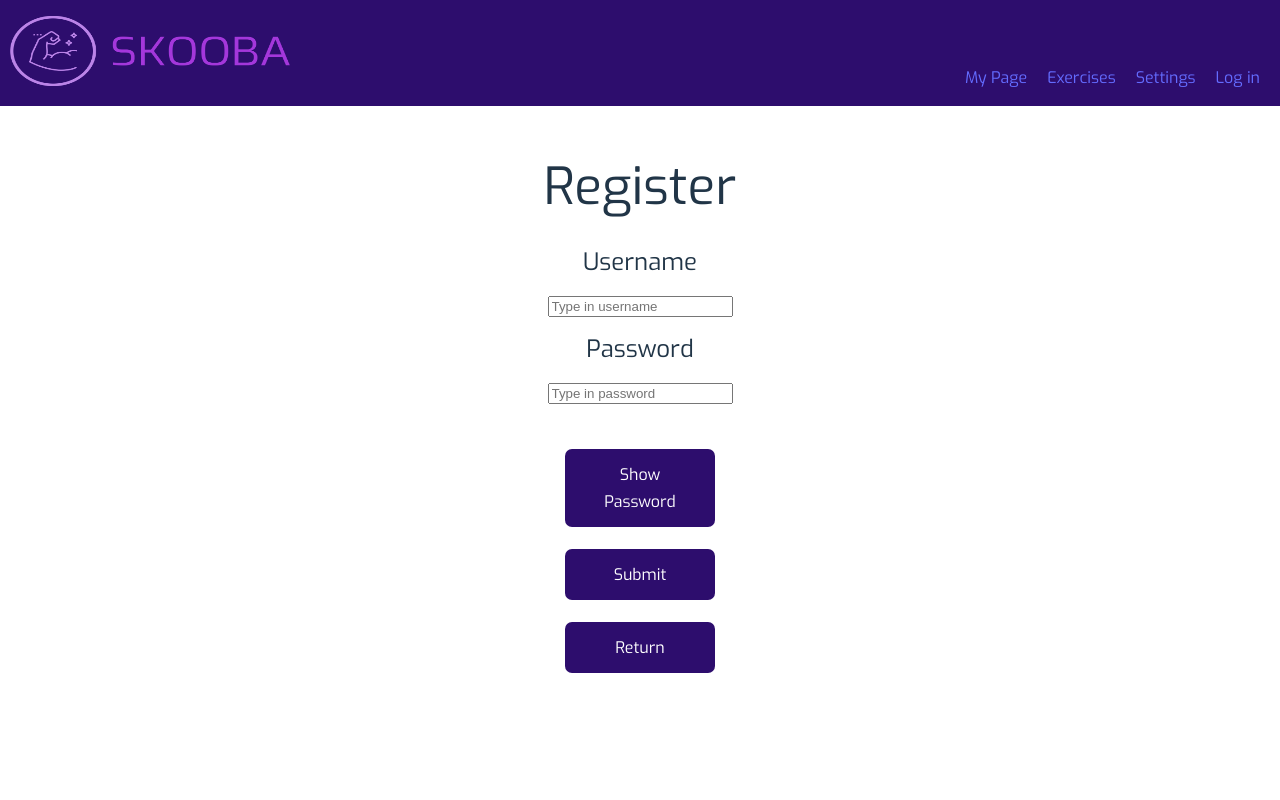
Test: Common register behaviour › Existing username error, no redirect
Type "user" into the field named "username" at [641, 307], box [548,296,733,317]
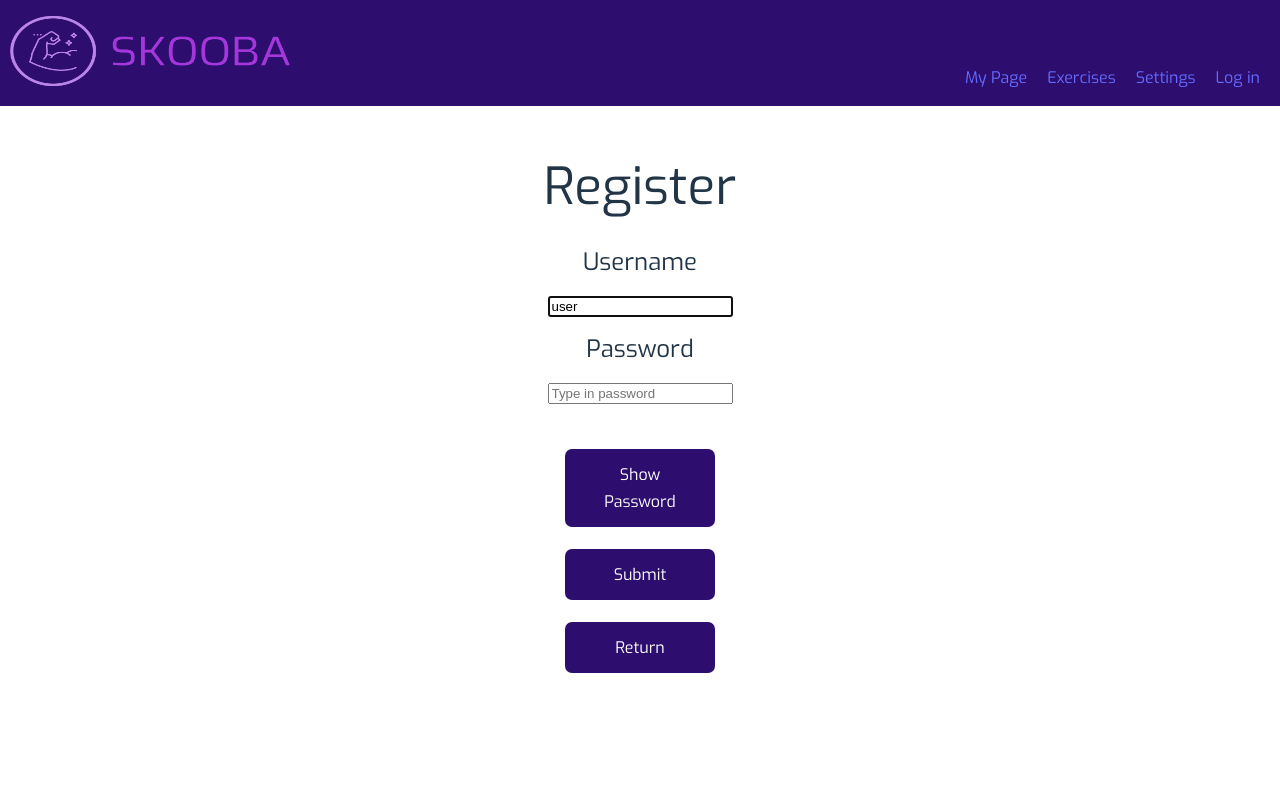
Type "password" into the password field named "password" at [641, 394], box [548,383,733,404]
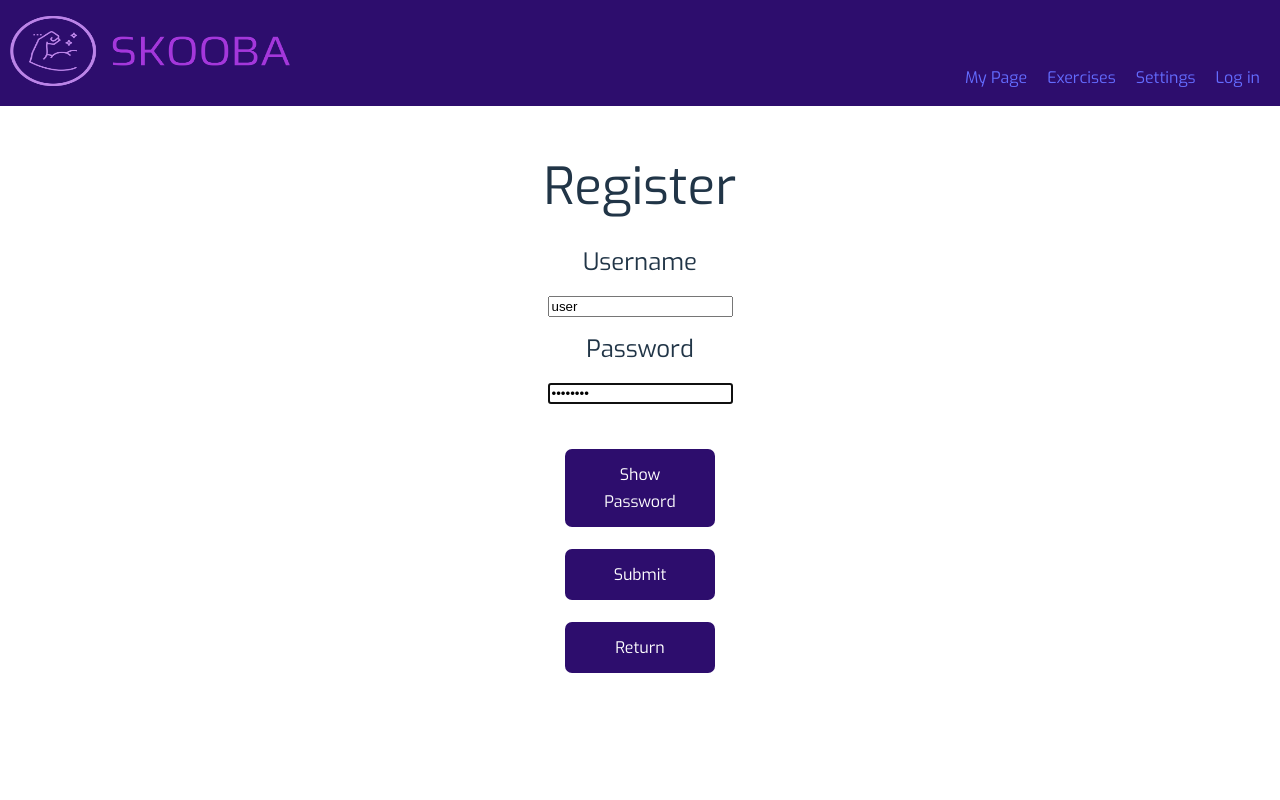
Click the button "Submit" at [640, 575], box [565,549,715,600]
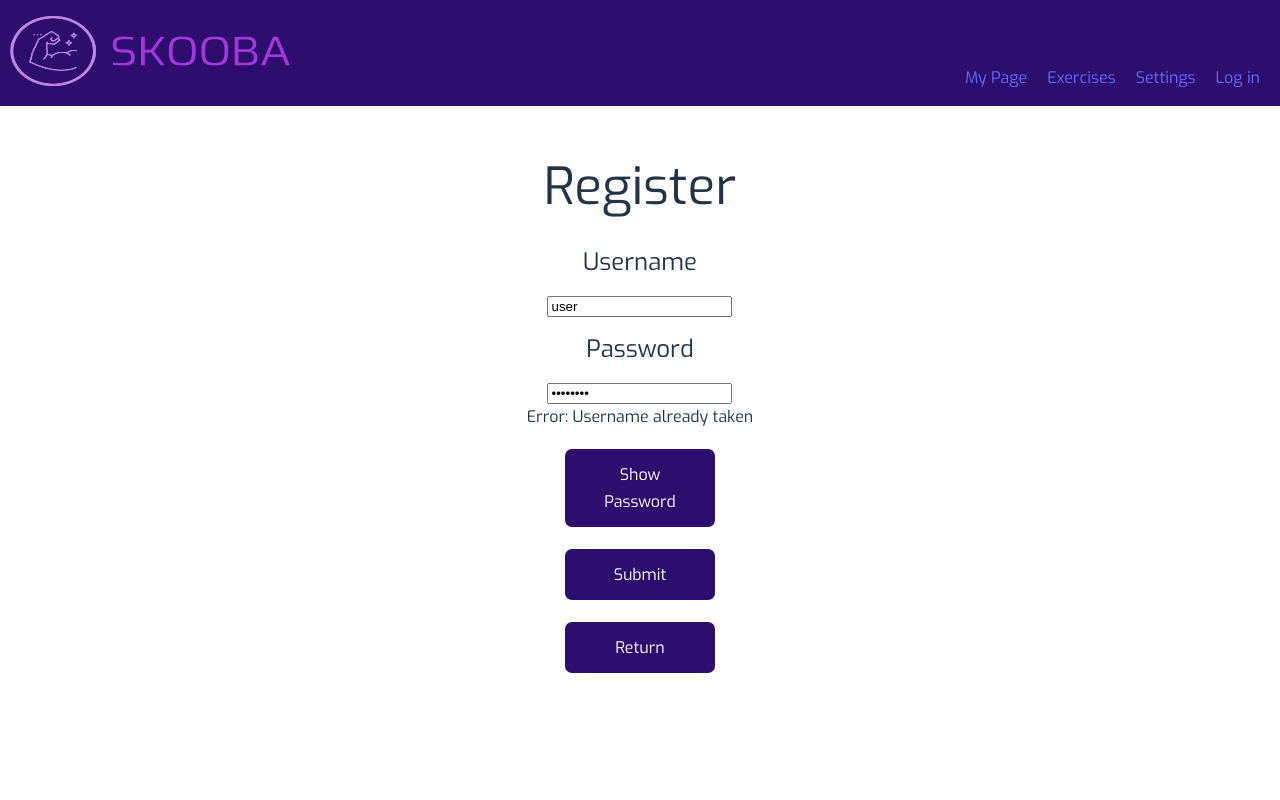
Expected: the heading "Register" is shown, [527,159,753,215]
Now the text "Error: Username already taken" is shown, box [527,406,754,427]
